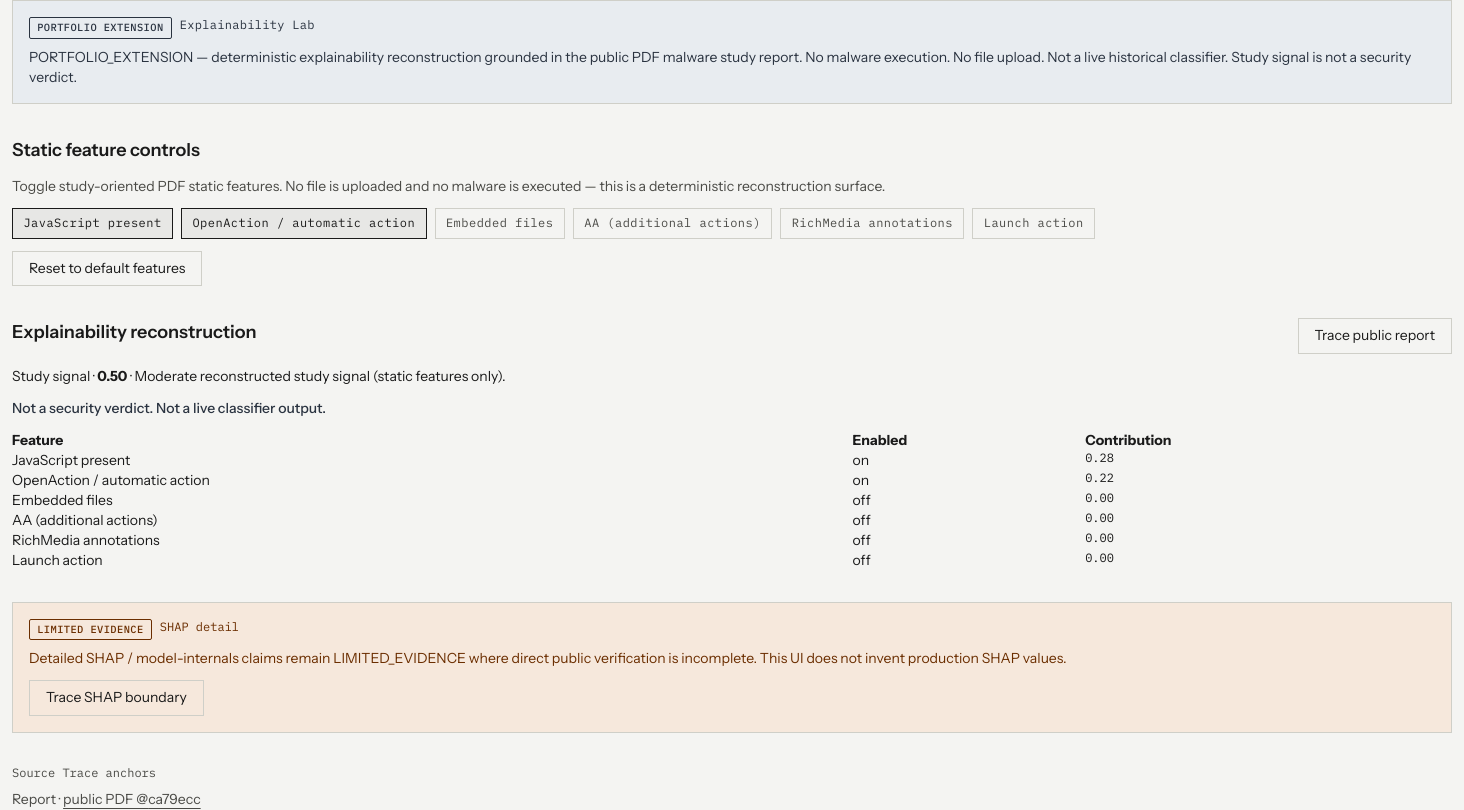
Scenario: MalwareLab (M13) › resets to default features
This screenshot has width=1464, height=810.
Click the button "Embedded files". click: x=500, y=223
box: [434,208,565,239]
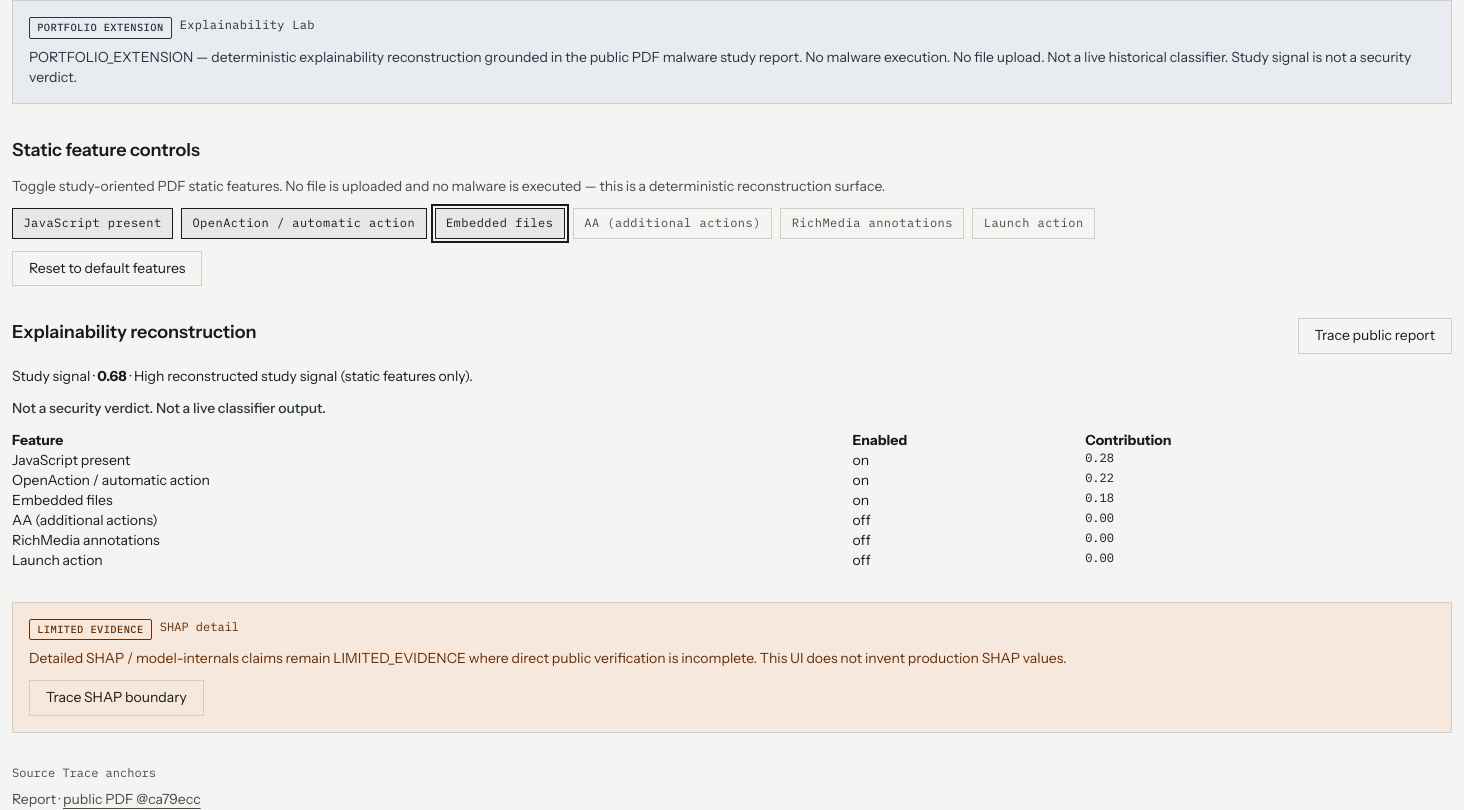
Expected: the text "Study signal ·" shows "0.68", [97,367,127,385]
Click the button "Reset to default features". click: x=107, y=269
box: [12,251,202,286]
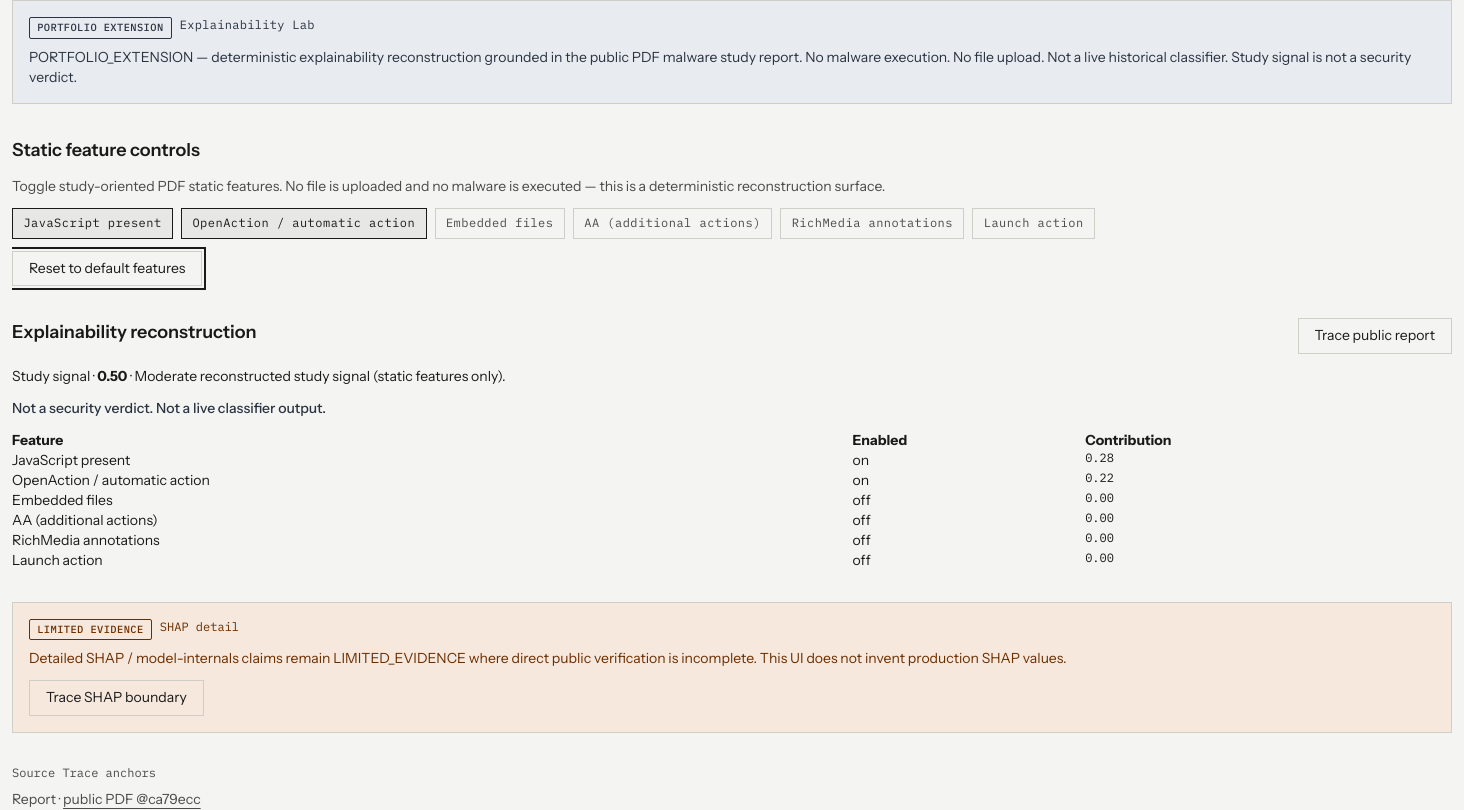
Expected: the text "Study signal ·" shows "0.50", [97,367,127,385]
